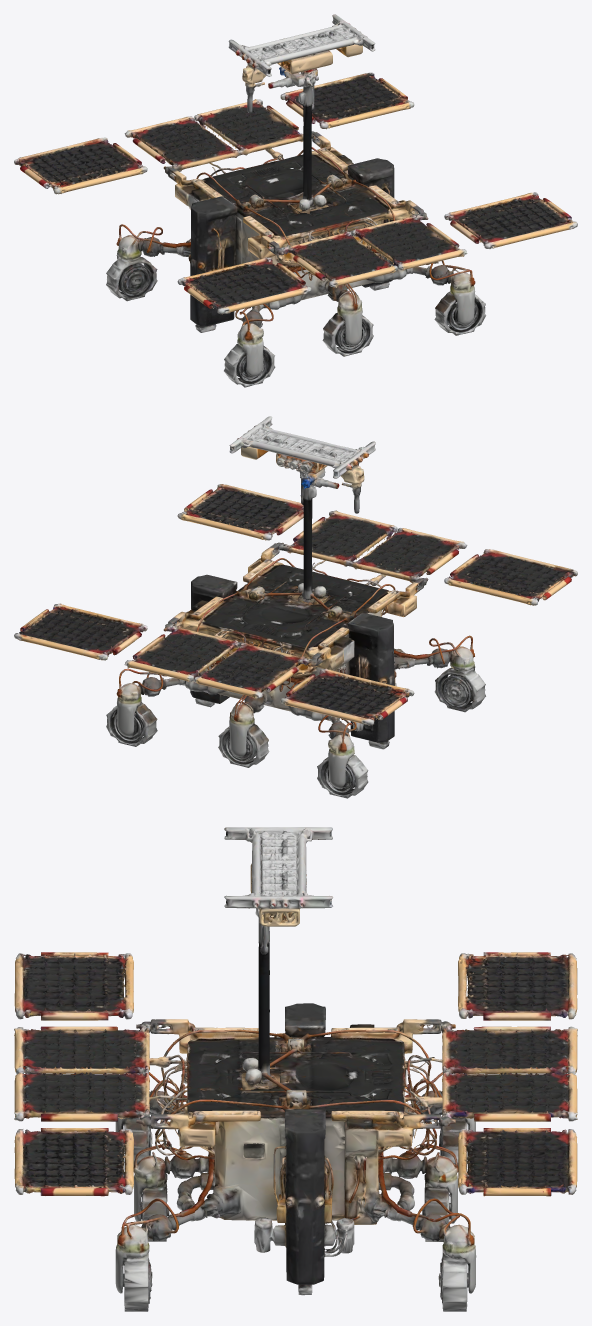
File: exomars_rover.glb
3 renders of one model, top to bottom at view 1: azimuth 30°, elevation 25°; view 2: azimuth 150°, elevation 25°; view 3: azimuth 270°, elevation 25°, orthographic. The views are drawn at different scales.
Size of the model in its own units: 1.9 by 1.38 by 1.89.
1 material, 1 textured.
